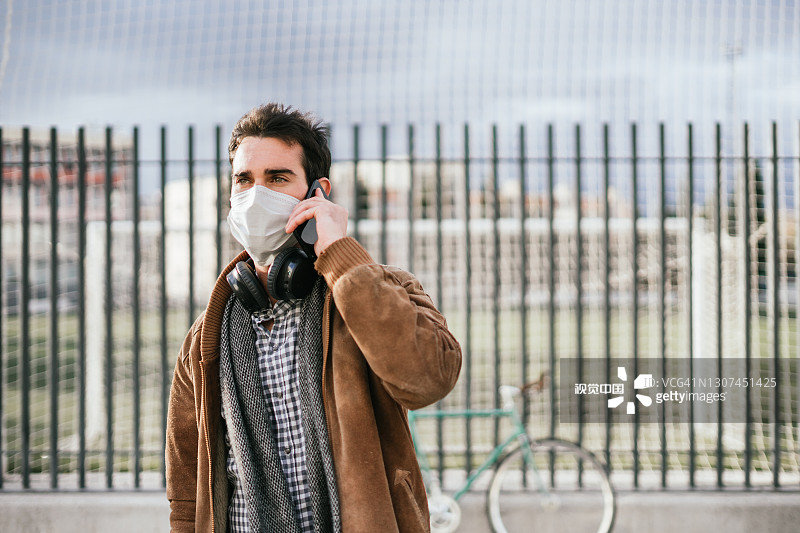calling: (283, 178, 359, 264)
